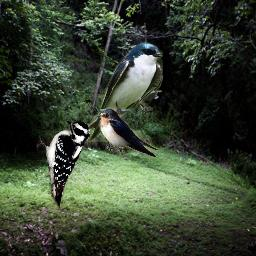Swallow: (86, 42, 163, 142), (96, 107, 158, 159)
Woodpecker: (37, 121, 90, 210)
